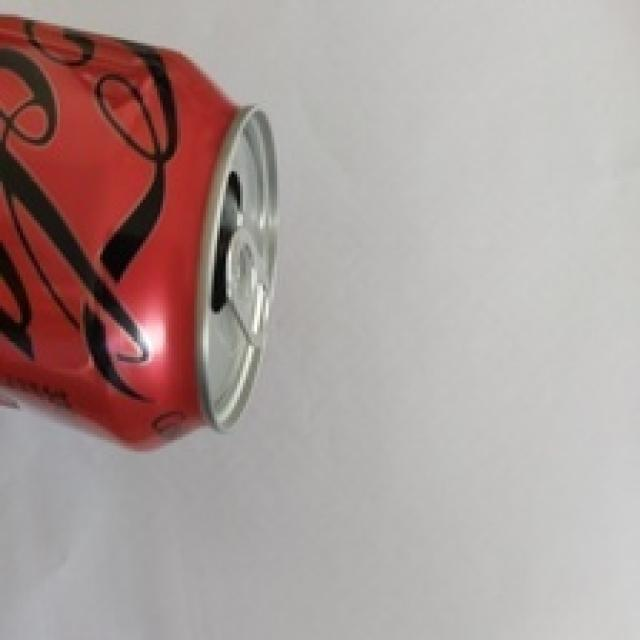recyclable: (0, 8, 283, 451)
